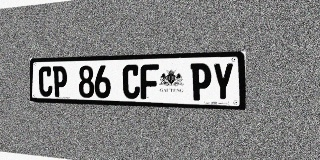6: (95, 65, 111, 98)
8: (79, 65, 94, 98)
C: (123, 64, 140, 99), (39, 66, 52, 97)
F: (141, 64, 159, 99)
P: (191, 63, 211, 101), (53, 66, 67, 97)
Y: (212, 63, 234, 101)
